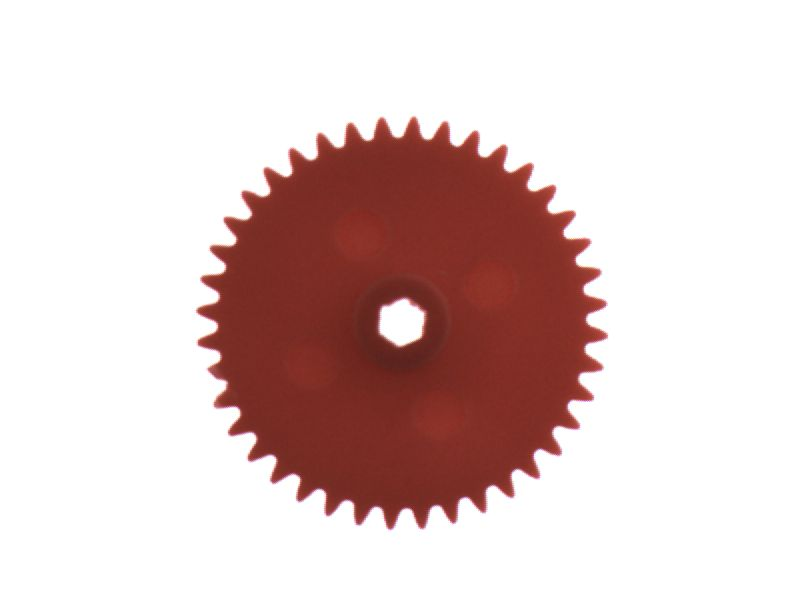defect_break: (189, 357, 231, 386)
